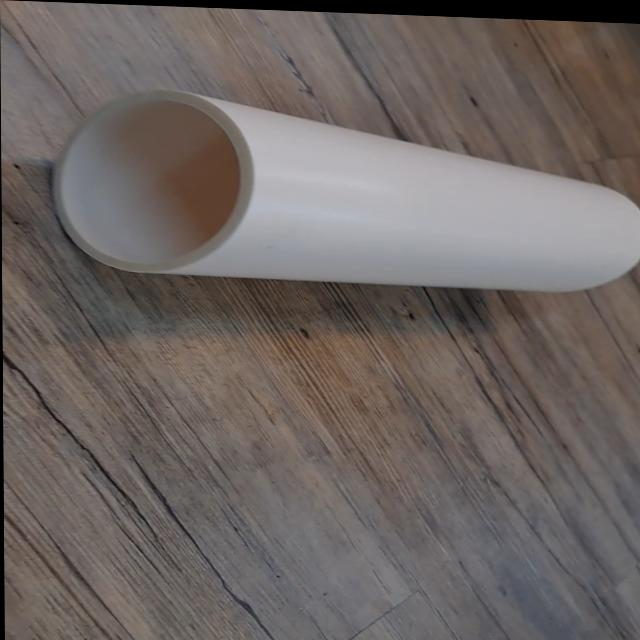CORAL: (39, 67, 640, 355)
